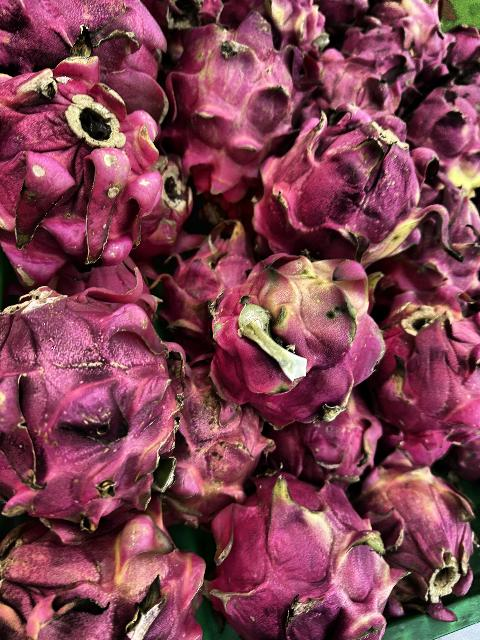buah-naga-belum-matang: (0, 510, 204, 640), (208, 258, 380, 407), (180, 27, 300, 173), (364, 461, 480, 605), (402, 76, 480, 184)
buah-naga-matang: (0, 269, 172, 521), (0, 56, 166, 254), (218, 478, 390, 640), (255, 102, 431, 256), (376, 277, 480, 448), (162, 353, 270, 505), (410, 178, 480, 298), (275, 402, 379, 482)
